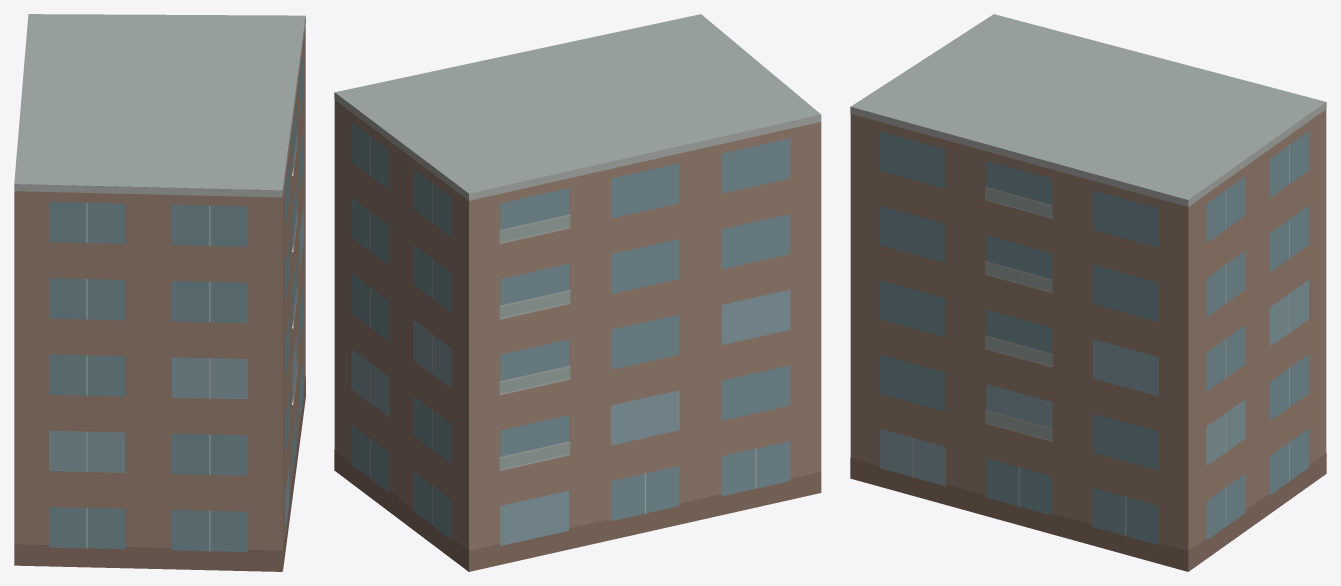
Rendered from survey-upis-32711140.glb.
3 views of the same model, side by side, from view 1: azimuth 30°, elevation 25°; view 2: azimuth 150°, elevation 25°; view 3: azimuth 270°, elevation 25° (orthographic). The views are drawn at different scales.
Visible parts, largest first — view 1: survey-upis-32711140.tmp; view 2: survey-upis-32711140.tmp; view 3: survey-upis-32711140.tmp.
Boxes of the visible parts, box(x1,y1,x2,y2) form: survey-upis-32711140.tmp: box(14, 14, 305, 571); survey-upis-32711140.tmp: box(334, 14, 821, 571); survey-upis-32711140.tmp: box(850, 14, 1326, 571).
Bounding box in the file's own units: 13.85 × 12.9 × 14.98.
